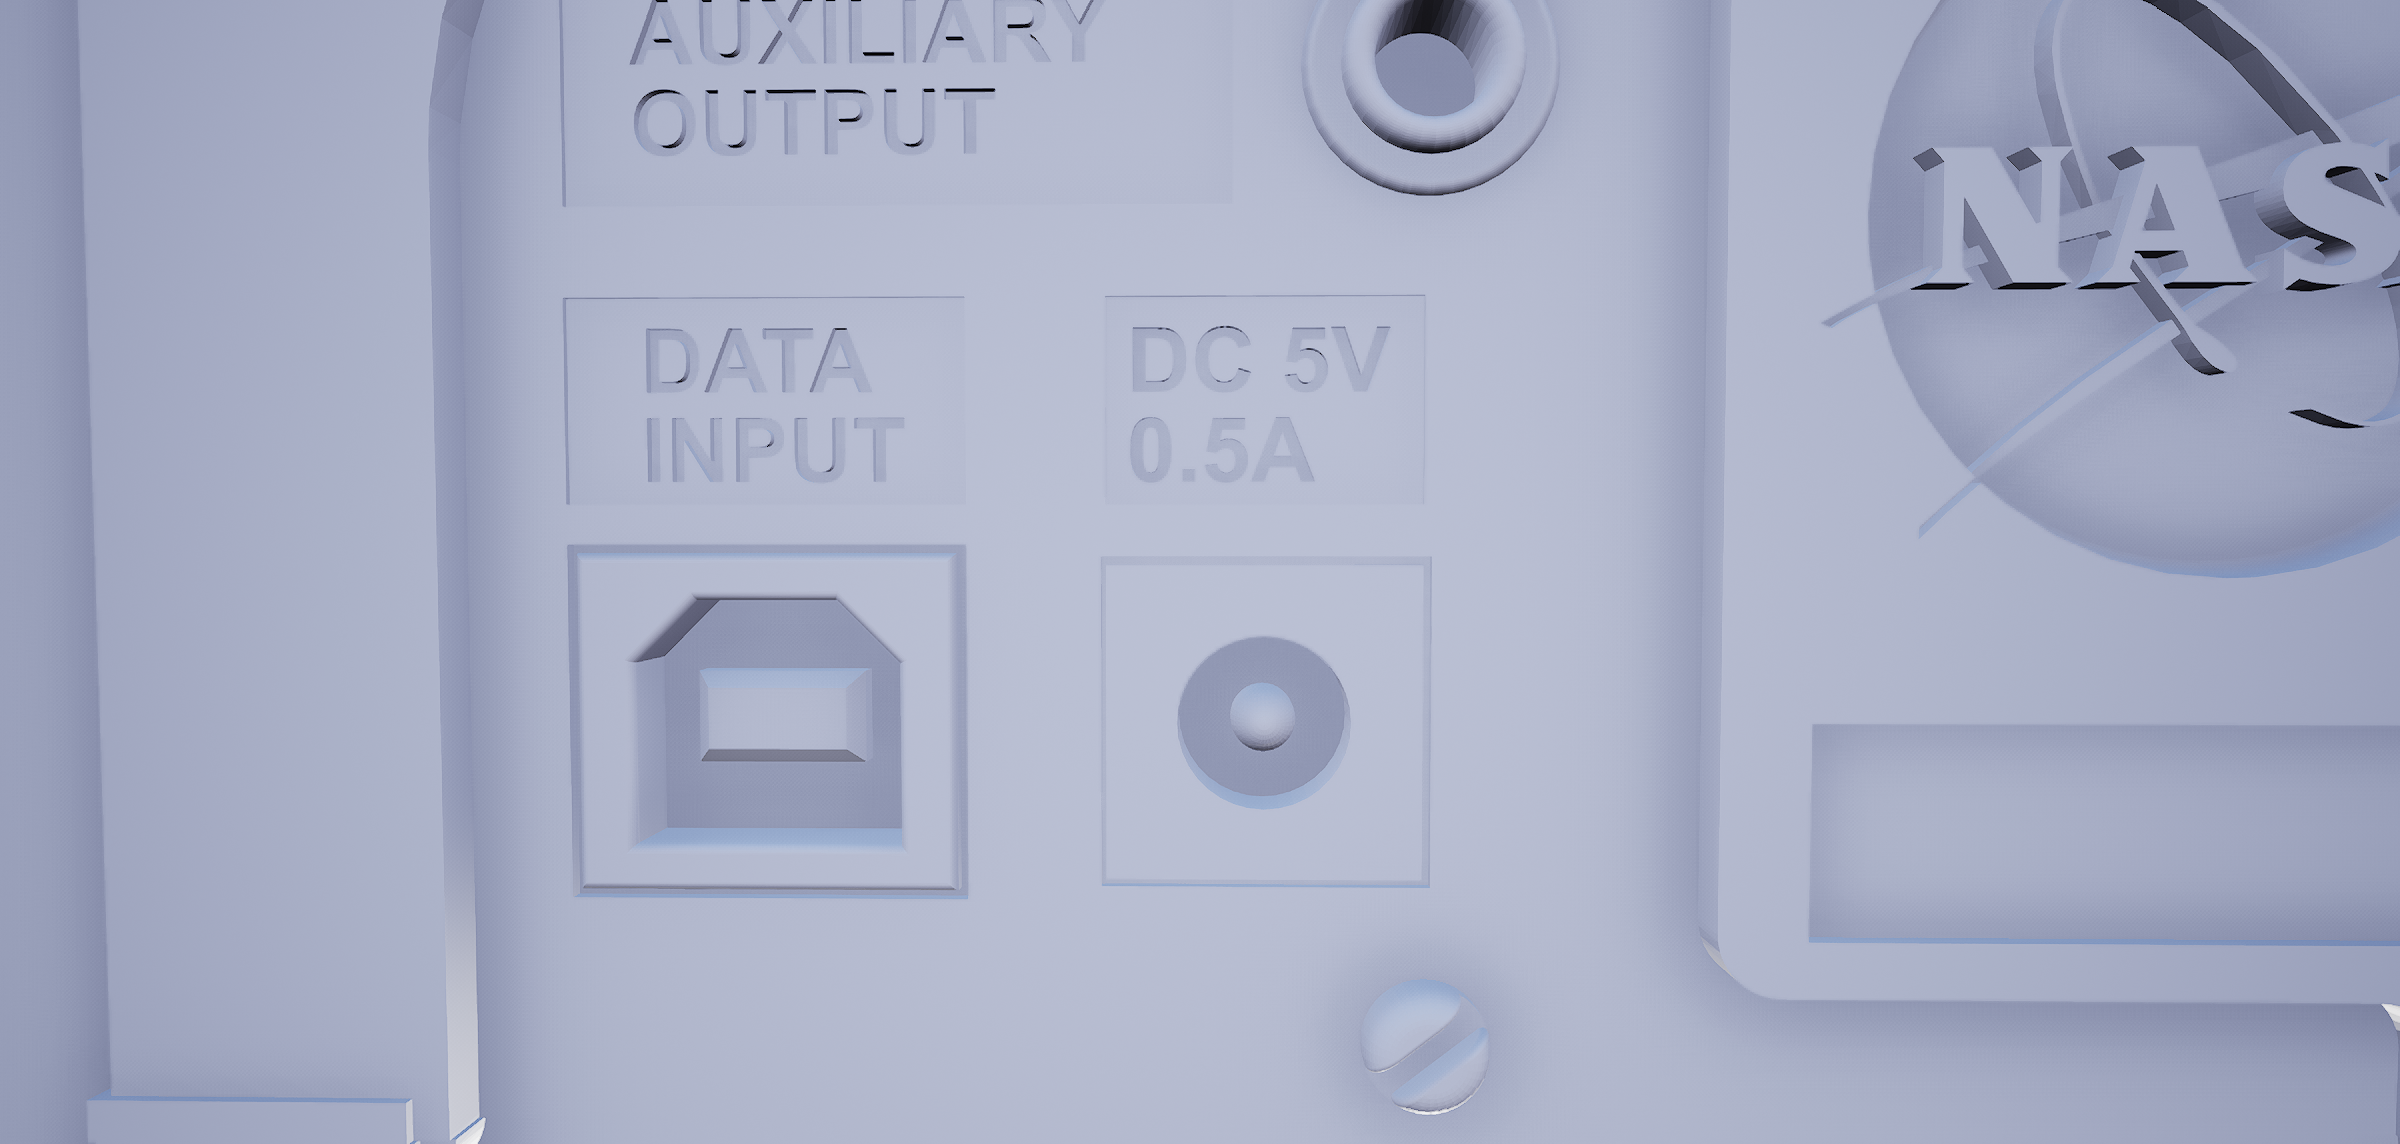aux: (1269, 2, 1578, 207)
dc: (1171, 623, 1365, 822)
usb: (629, 580, 932, 861)
